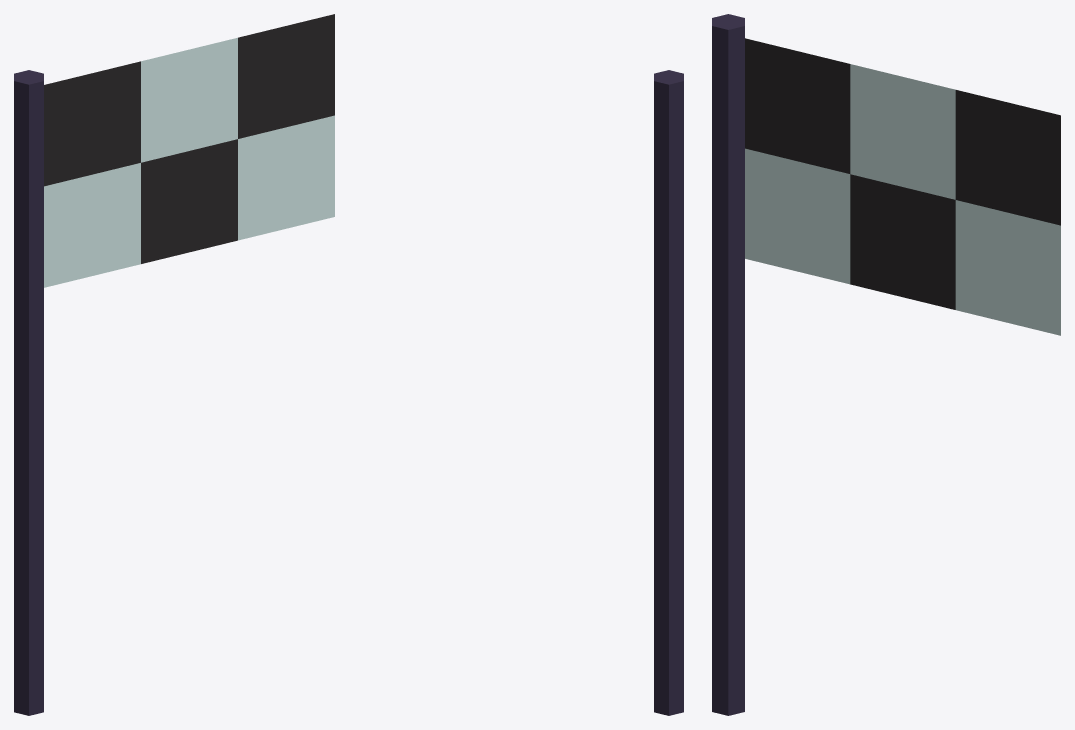
The model's file is flag.glb.
3 renders of one model, left to right at view 1: azimuth 30°, elevation 25°; view 2: azimuth 150°, elevation 25°; view 3: azimuth 330°, elevation 25°, orthographic. The views are drawn at different scales.
Parts seen in each view (by area): view 1: flag; view 2: flag; view 3: flag.
Part boxes in pixels (bbox=[...]): flag: bbox=[14, 14, 334, 715]; flag: bbox=[654, 70, 683, 715]; flag: bbox=[712, 14, 1060, 715].
Bounding box in the file's own units: 1.49 × 2.8 × 0.1212.
